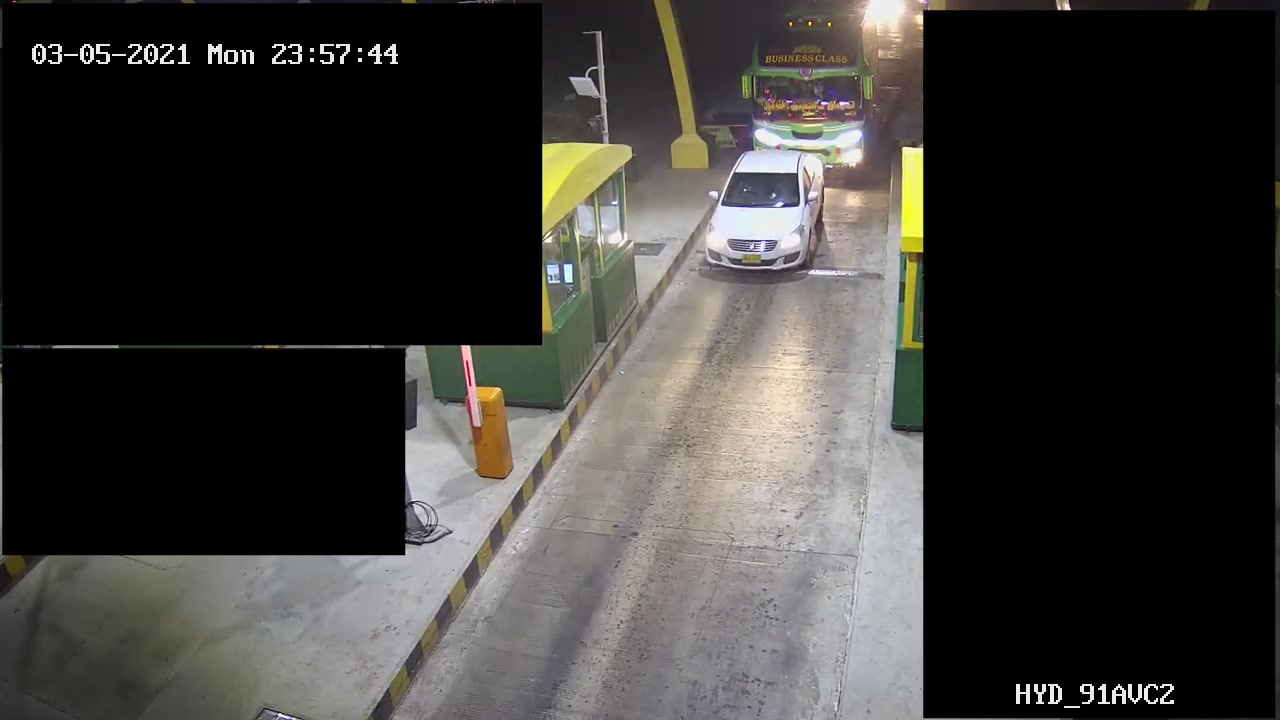F1: (702, 151, 833, 278)
